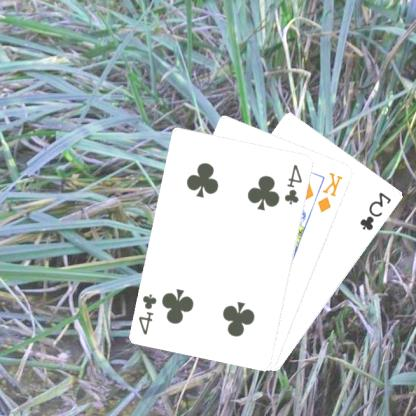3C: (358, 189, 396, 232)
4C: (137, 290, 161, 337), (284, 161, 306, 206)
KD: (316, 170, 346, 214)
